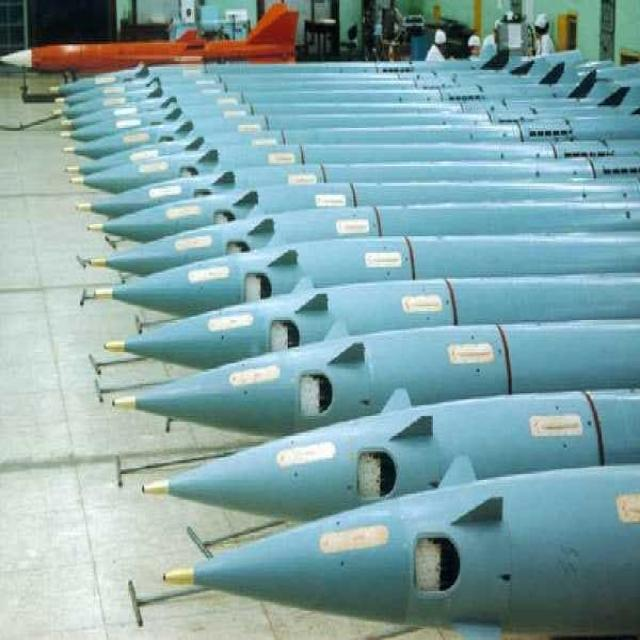missile: (160, 455, 640, 640)
